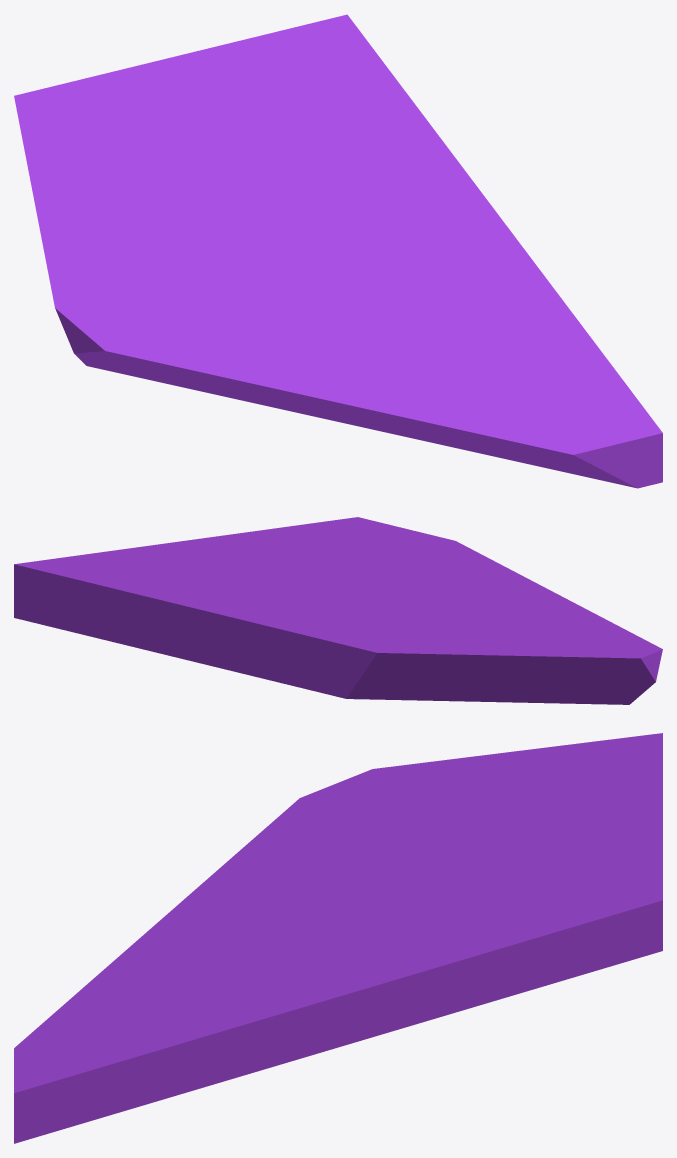
File: Window_138_2_chunks.fbx
The picture shows the model from 3 angles, top to bottom: view 1: azimuth 30°, elevation 25°; view 2: azimuth 150°, elevation 25°; view 3: azimuth 270°, elevation 25°; orthographic projection. The views are drawn at different scales.
Visible parts, largest first — view 1: Window_138_2_9, Window_138_2_10, Window_138_2_8, Window_138_2_11, Window_138_2_24, Window_138_2_4, Window_138_2_0, Window_138_2_19, Window_138_2_23, Window_138_2_17, Window_138_2_3, Window_138_2_1 (+9 smaller); view 2: Window_138_2_10, Window_138_2_24, Window_138_2_3, Window_138_2_9, Window_138_2_11, Window_138_2_8, Window_138_2_4, Window_138_2_14, Window_138_2_0, Window_138_2_21, Window_138_2_19, Window_138_2_23 (+10 smaller); view 3: Window_138_2_9, Window_138_2_10, Window_138_2_4, Window_138_2_11, Window_138_2_15, Window_138_2_24, Window_138_2_8, Window_138_2_5, Window_138_2_7, Window_138_2_19, Window_138_2_0, Window_138_2_14 (+11 smaller).
Part boxes in pixels (x1,y1,x2,y2): Window_138_2_9: (443,325,662,488); Window_138_2_10: (14,78,170,255); Window_138_2_8: (283,304,477,452); Window_138_2_11: (144,177,336,289); Window_138_2_24: (109,19,330,124); Window_138_2_4: (333,176,538,268); Window_138_2_0: (55,288,244,381); Window_138_2_19: (414,266,565,347); Window_138_2_23: (182,119,333,178); Window_138_2_17: (286,264,417,335); Window_138_2_3: (40,231,157,373); Window_138_2_1: (159,317,311,415); Window_138_2_10: (293,622,545,701); Window_138_2_24: (35,569,281,671); Window_138_2_3: (476,631,644,704); Window_138_2_9: (274,517,508,568); Window_138_2_11: (253,580,501,632); Window_138_2_8: (415,565,583,607); Window_138_2_4: (185,535,367,585); Window_138_2_14: (14,558,125,630); Window_138_2_0: (529,617,662,691); Window_138_2_21: (233,610,318,685); Window_138_2_19: (223,531,386,569); Window_138_2_23: (198,577,320,614); Window_138_2_9: (14,974,195,1143); Window_138_2_10: (412,733,662,822); Window_138_2_4: (236,904,453,1077); Window_138_2_11: (321,811,483,911); Window_138_2_15: (382,919,578,993); Window_138_2_24: (550,780,662,896); Window_138_2_8: (88,889,303,983); Window_138_2_5: (267,972,518,1068); Window_138_2_7: (49,1020,251,1133); Window_138_2_19: (188,955,296,1049); Window_138_2_0: (215,769,371,872); Window_138_2_14: (558,891,662,975).
Size of the model in its own units: 924 by 482 by 1165.
